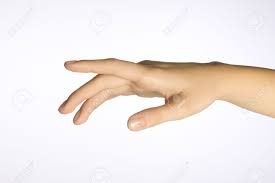hand: (53, 43, 228, 143)
